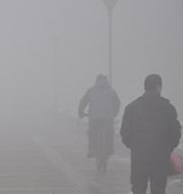person: (121, 73, 183, 193), (78, 73, 121, 174)
